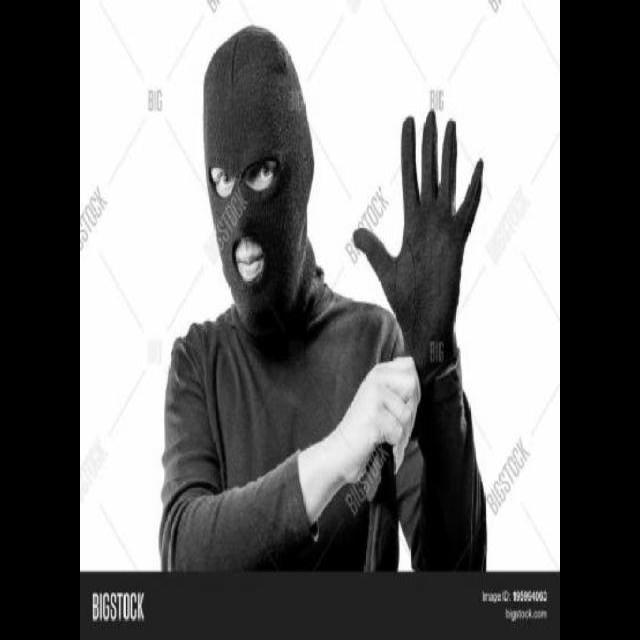6_pasamontana: (201, 22, 319, 342)
